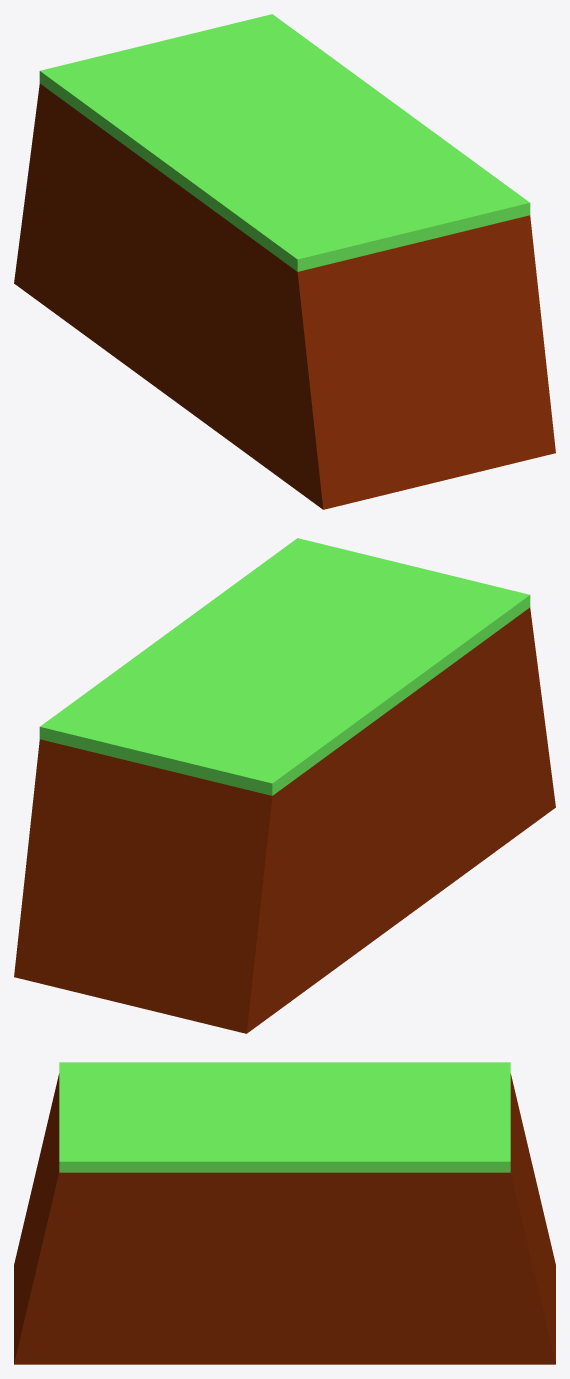
The model's file is escenarioTestcentro2L.fbx.
3 views of the same model, one above another, from view 1: azimuth 30°, elevation 25°; view 2: azimuth 150°, elevation 25°; view 3: azimuth 270°, elevation 25° (orthographic). The views are drawn at different scales.
Visible parts, largest first — view 1: Cube.013; view 2: Cube.013; view 3: Cube.013.
Part boxes in pixels (<box>): Cube.013: <box>14,14,555,509</box>; Cube.013: <box>14,538,555,1033</box>; Cube.013: <box>14,1062,555,1364</box>.
Bounding box in the file's own units: 2359 × 2244 × 5434.
